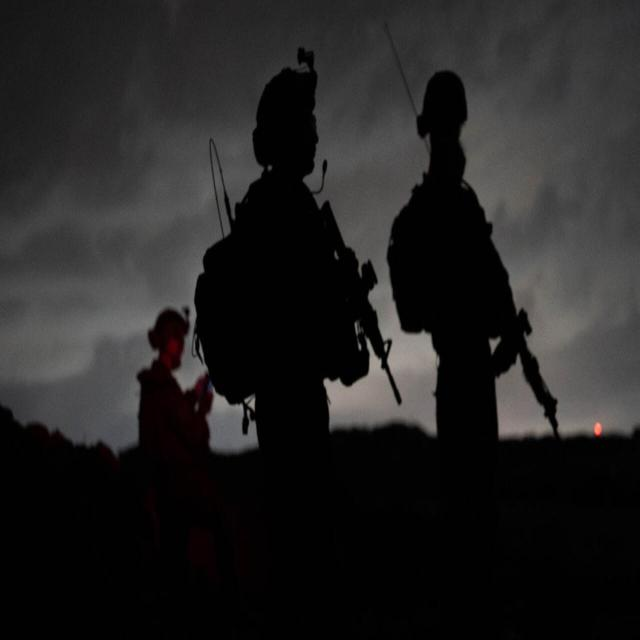Forest: (0, 3, 640, 640)
Militant: (386, 20, 560, 538), (196, 63, 379, 550), (136, 284, 217, 528)
